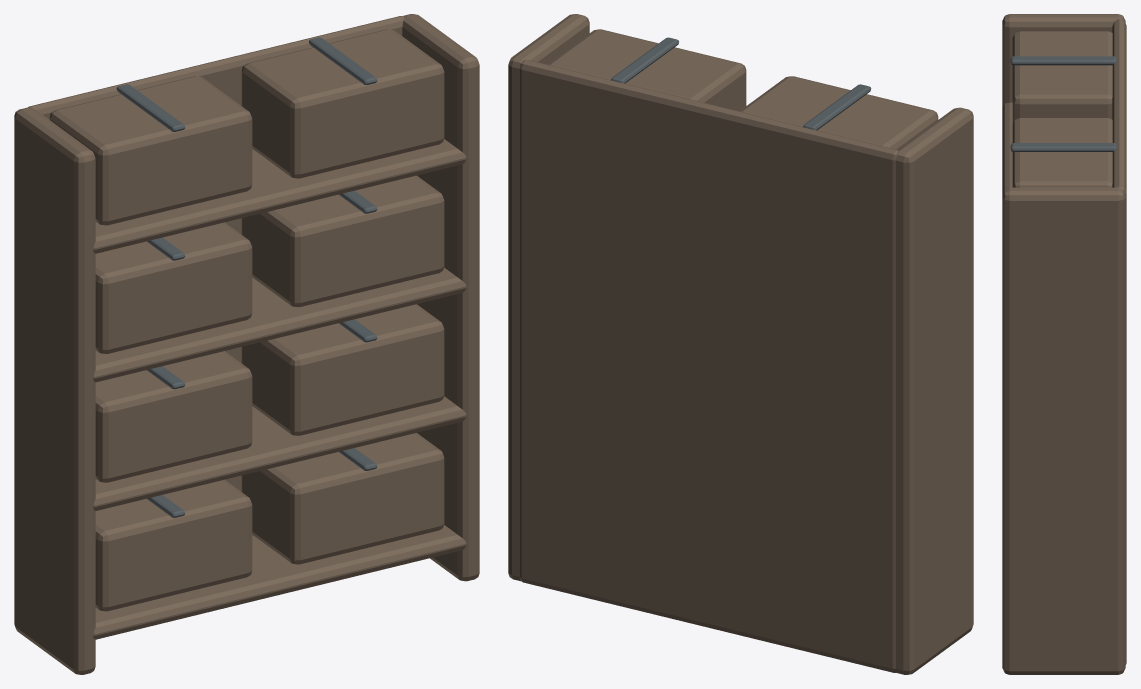
The model's file is cargo_shelves.glb.
3 renders of one model, left to right at view 1: azimuth 30°, elevation 25°; view 2: azimuth 150°, elevation 25°; view 3: azimuth 270°, elevation 25°, orthographic. The views are drawn at different scales.
Visible parts, largest first — view 1: Body.074; view 2: Body.074; view 3: Body.074.
Part boxes in pixels (box(x1,y1,x2,y2)): Body.074: box(14, 14, 479, 674); Body.074: box(508, 14, 973, 674); Body.074: box(1002, 14, 1126, 674).
Bounding box in the file's own units: 1.05 × 1.3 × 0.3025.
